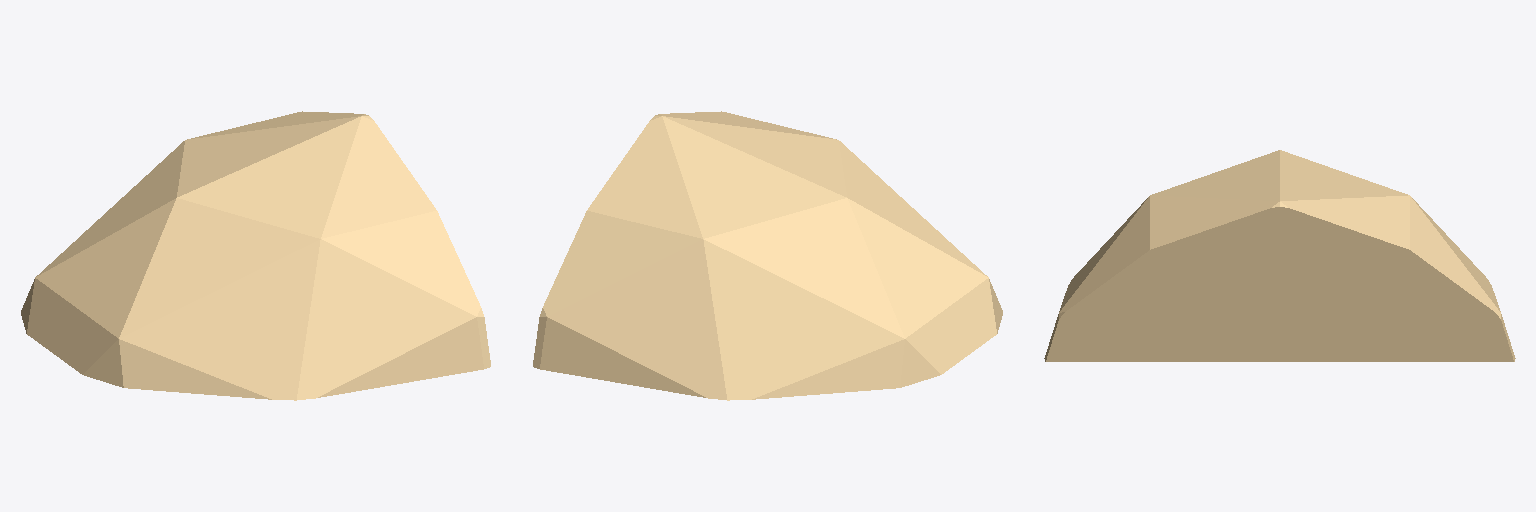
The robot description file, URDF, robot "potato4":
<?xml version="1.0"?>
<robot name="potato4"
       xmlns:xi="http://www.w3.org/2001/XInclude">
  <gazebo>
    <static>false</static>
  </gazebo>
  <link name="nil_link">
    <visual>
      <origin xyz="0 0 0" rpy="0 -0 0"/>
      <geometry>
        <mesh filename="model://potato4/meshes/nil_link_mesh.dae" scale="1 1 1" />
      </geometry>
    </visual>
    <collision>
      <origin xyz="0 0 0" rpy="0 -0 0"/>
      <geometry>
        <mesh filename="model://potato4/meshes/nil_link_mesh.dae" scale="1 1 1" />
      </geometry>
    </collision>
    <inertial>
      <mass value="0.001" />
      <origin xyz="0 0 0" rpy="0 -0 0"/>
      <inertia ixx="1e-03" ixy="0" ixz="0" iyy="1e-03" iyz="0" izz="1e-03"/>
    </inertial>
  </link>
  <gazebo reference="nil_link">
    <mu1>0.9</mu1>
    <mu2>0.9</mu2>
  </gazebo>
</robot>

--- Render facts (derived) ---
Views: 3 orthographic renders of the robot side by side, from view 1: azimuth 30°, elevation 25°; view 2: azimuth 150°, elevation 25°; view 3: azimuth 270°, elevation 25°.
Robot: potato4 — 1 links, 0 joints (none); root link nil_link; default pose: all joints at 0.
Visible links, largest first — view 1: nil_link; view 2: nil_link; view 3: nil_link.
Boxes of the visible links, <box> form: nil_link: <box>21,111,490,400</box>; nil_link: <box>533,111,1002,400</box>; nil_link: <box>1044,150,1515,361</box>.
Bounding box of the posed robot: 0.0403 × 0.0543 × 0.02 m (x, y, z).
1 mesh visuals loaded from 1 distinct referenced files (1 Collada DAE).